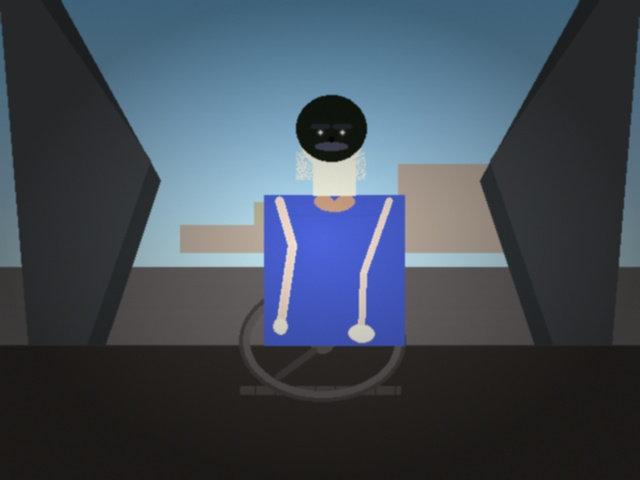normal_driving: (126, 201, 322, 341)
